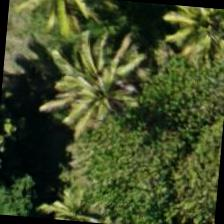Kelapa_Sawit: (33, 40, 131, 138), (55, 53, 153, 151), (158, 4, 223, 100), (23, 165, 118, 223), (170, 5, 223, 99)
